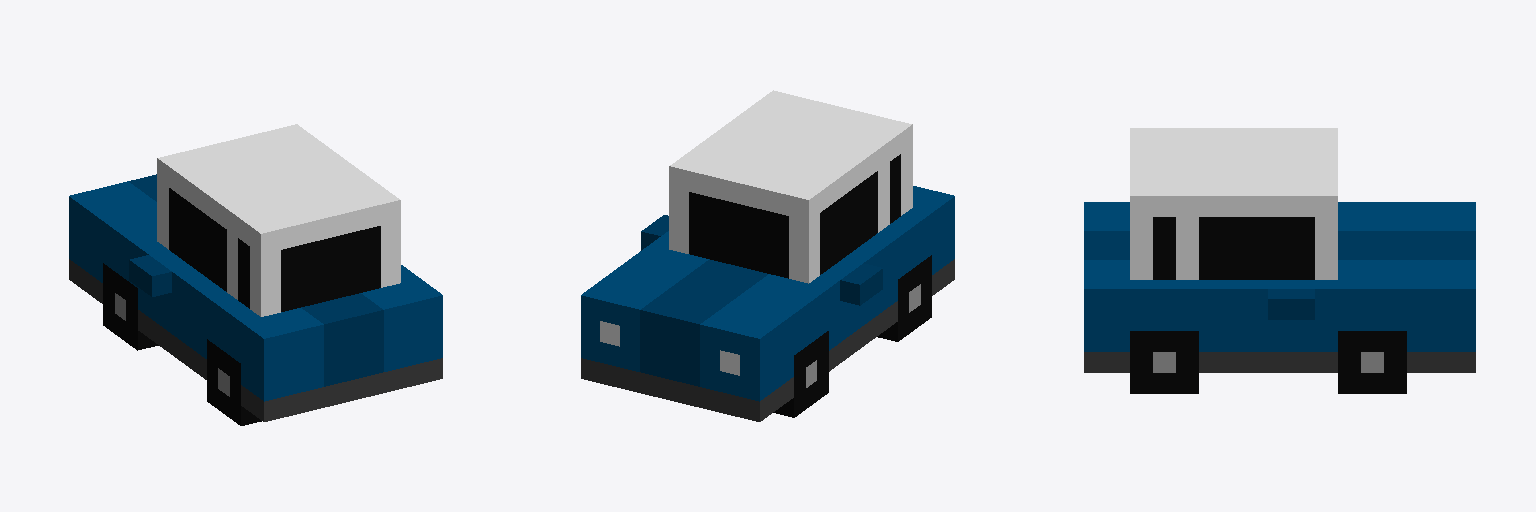
3 renders of one model, left to right at view 1: azimuth 30°, elevation 25°; view 2: azimuth 150°, elevation 25°; view 3: azimuth 270°, elevation 25°, orthographic.
Parts seen in each view (by area): view 1: car_short_2; view 2: car_short_2; view 3: car_short_2.
Boxes of the visible parts, <box> form: car_short_2: <box>69,124,442,425</box>; car_short_2: <box>581,90,954,421</box>; car_short_2: <box>1084,128,1475,393</box>.
Bounding box in the file's own units: 11 × 9 × 17.
Materials: 1 (1 with a texture image).